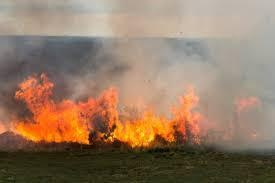fire: (209, 93, 274, 147)
